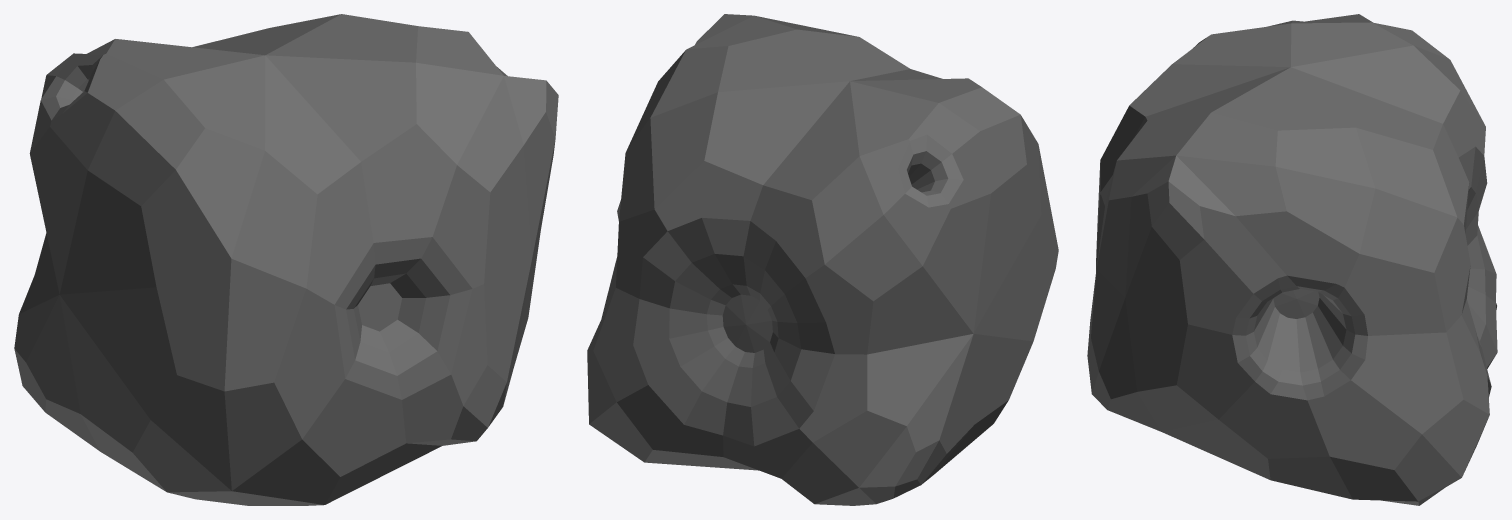
Rendered from Asteroid 2.fbx.
The picture shows the model from 3 angles, left to right: view 1: azimuth 30°, elevation 25°; view 2: azimuth 150°, elevation 25°; view 3: azimuth 270°, elevation 25°; orthographic projection. The views are drawn at different scales.
Parts seen in each view (by area): view 1: Cube; view 2: Cube; view 3: Cube.
Boxes of the visible parts, left/top/right/bottom form: Cube: left=14, top=14, right=558, bottom=505; Cube: left=587, top=14, right=1058, bottom=505; Cube: left=1087, top=14, right=1497, bottom=505.
Bounding box in the file's own units: 193 × 191 × 192.
Materials: 1 (1 with a texture image).
